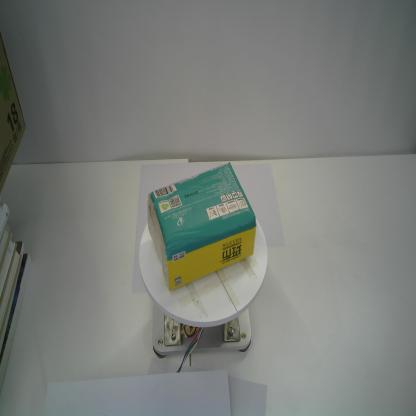Tissue: (146, 159, 258, 293)
